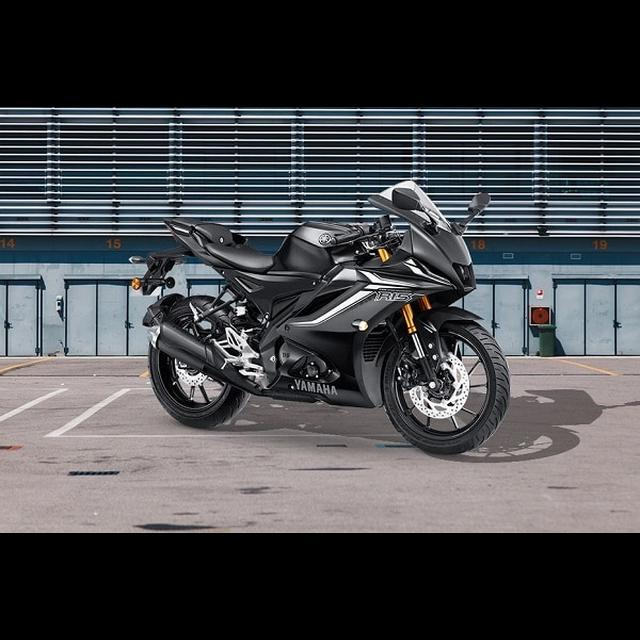motorcycle: (125, 173, 517, 461)
